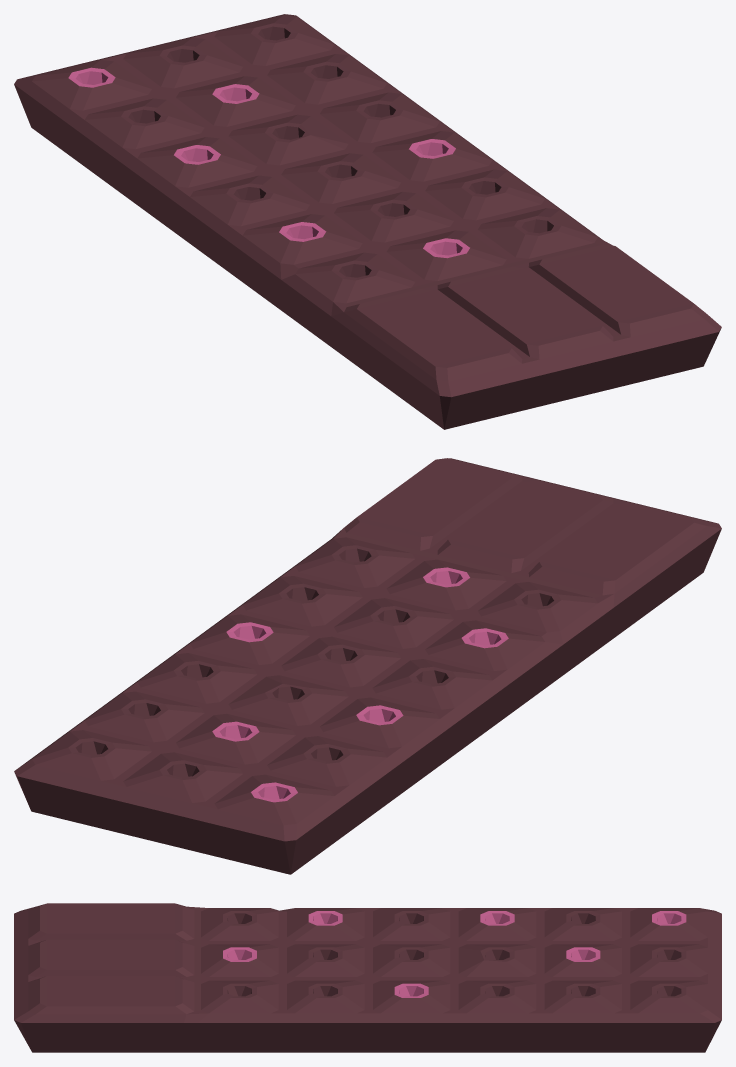
The model's file is mat-inflatable-b.fbx.
The picture shows the model from 3 angles, top to bottom: view 1: azimuth 30°, elevation 25°; view 2: azimuth 150°, elevation 25°; view 3: azimuth 270°, elevation 25°; orthographic projection. The views are drawn at different scales.
Parts seen in each view (by area): view 1: mat-inflatable-b; view 2: mat-inflatable-b; view 3: mat-inflatable-b.
Boxes of the visible parts, left/top/right/bottom form: mat-inflatable-b: left=14, top=14, right=721, bottom=429; mat-inflatable-b: left=14, top=458, right=721, bottom=874; mat-inflatable-b: left=14, top=903, right=721, bottom=1052.
Size of the model in its own units: 0.8511 by 0.1636 by 2.27.
